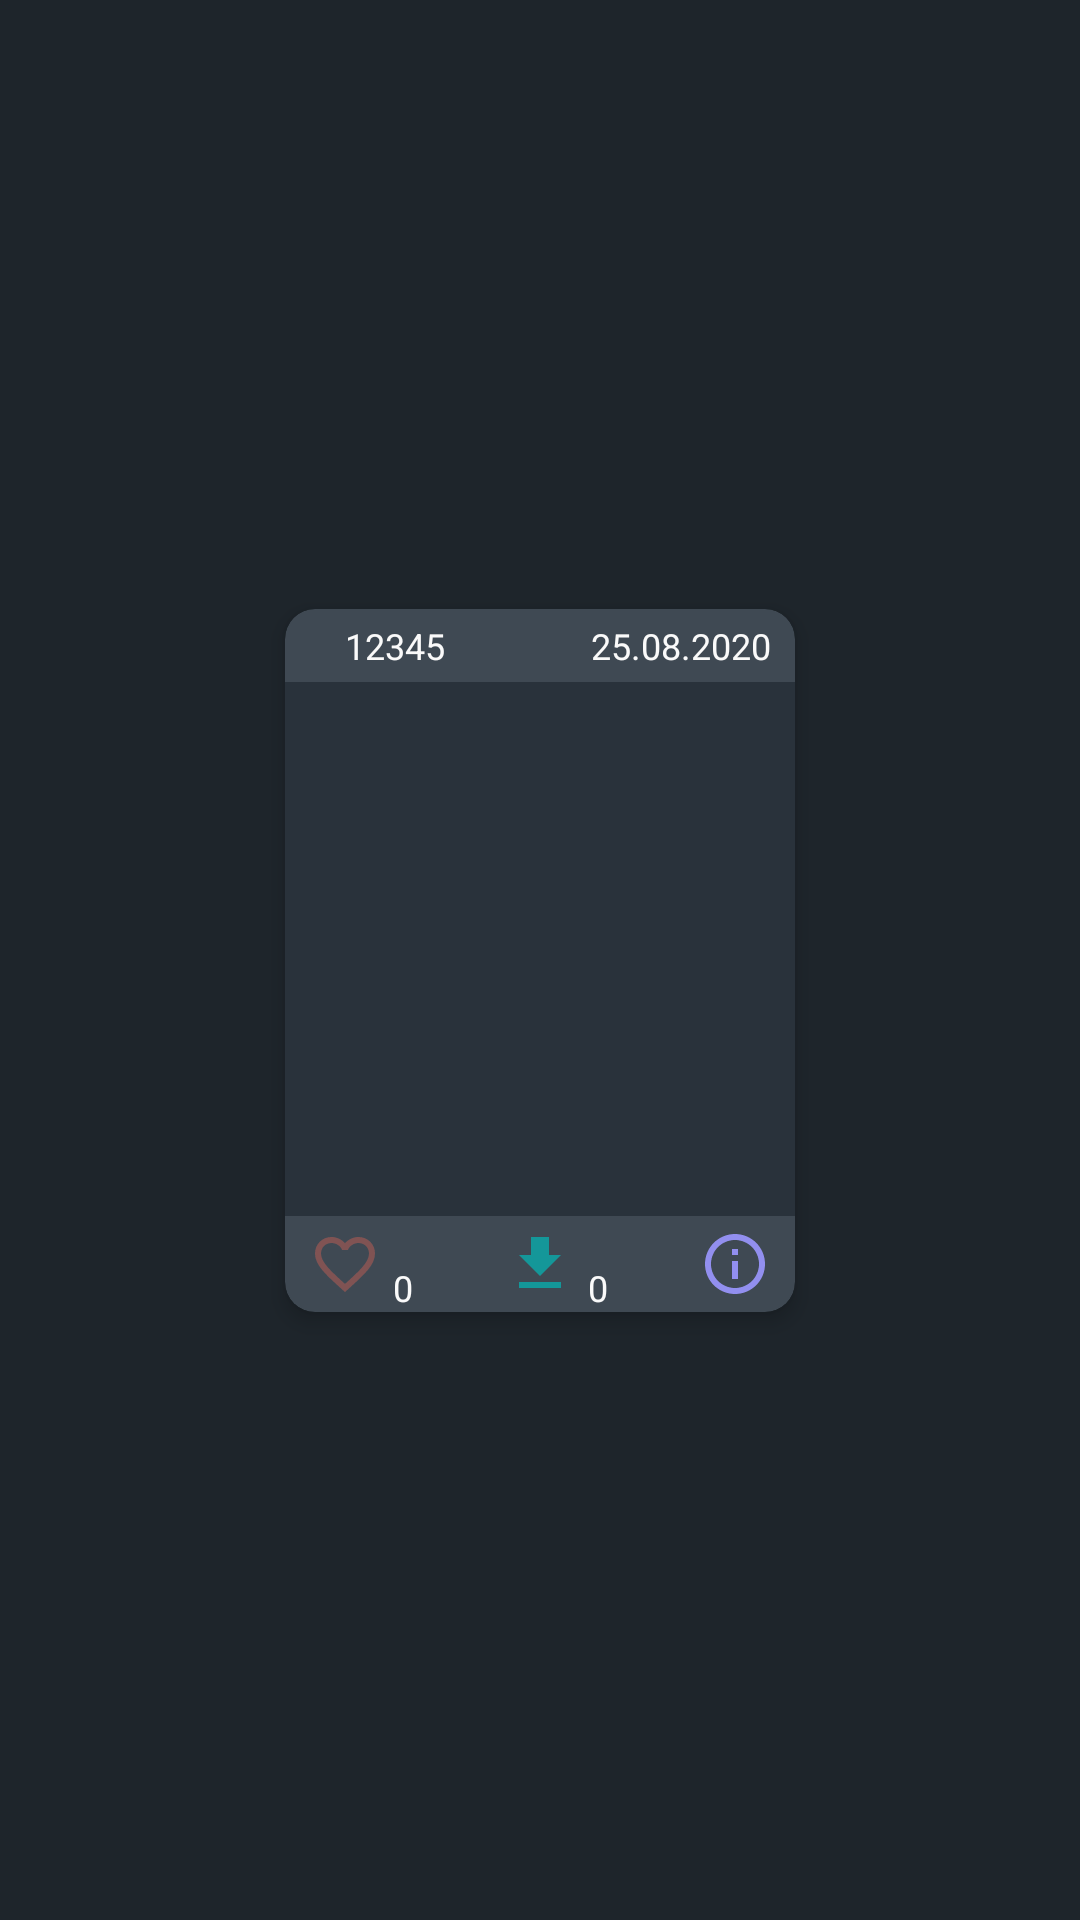

Point at icon controls on the screen. Image size 1080px x 1920px, points as point (x, y).
download colorized: point (540, 1262)
info: point (735, 1264)
liked: point (345, 1264)
